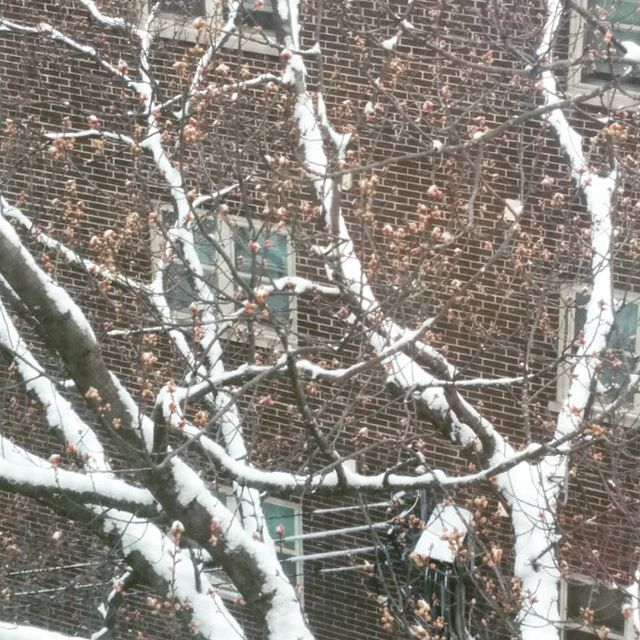building: (14, 1, 603, 612)
tree: (1, 1, 616, 622)
